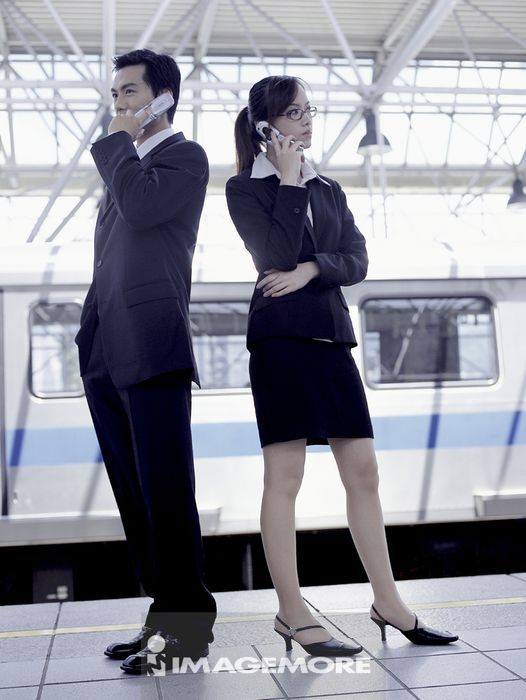talk: (254, 100, 314, 182), (106, 82, 174, 137)
